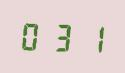one: (77, 20, 105, 54)
three: (48, 19, 76, 53)
zero: (18, 18, 46, 52)
